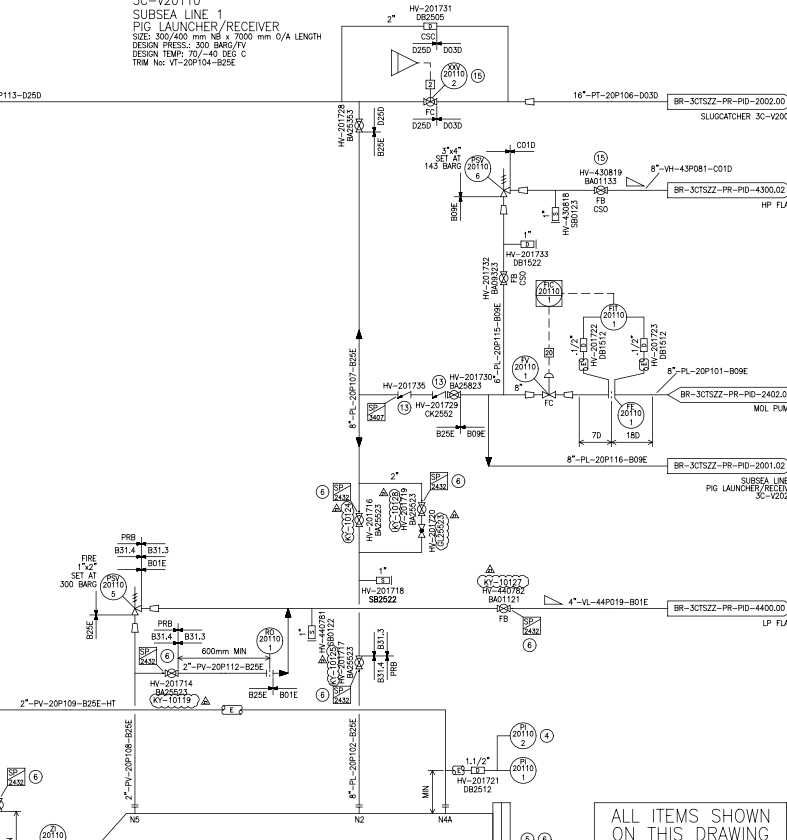Instrument: (613, 398, 648, 431), (596, 298, 629, 333), (508, 349, 540, 385), (461, 148, 493, 184), (508, 754, 541, 788), (507, 717, 538, 752), (254, 624, 284, 656), (439, 59, 468, 92), (100, 571, 127, 603)
Instrument-square: (530, 275, 566, 311)
